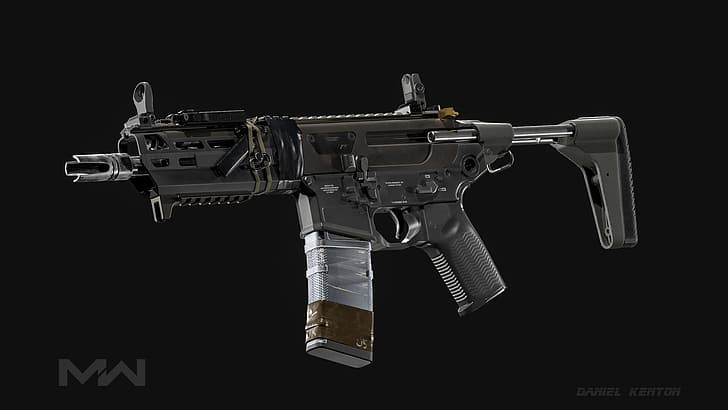rifle: (59, 70, 644, 360)
